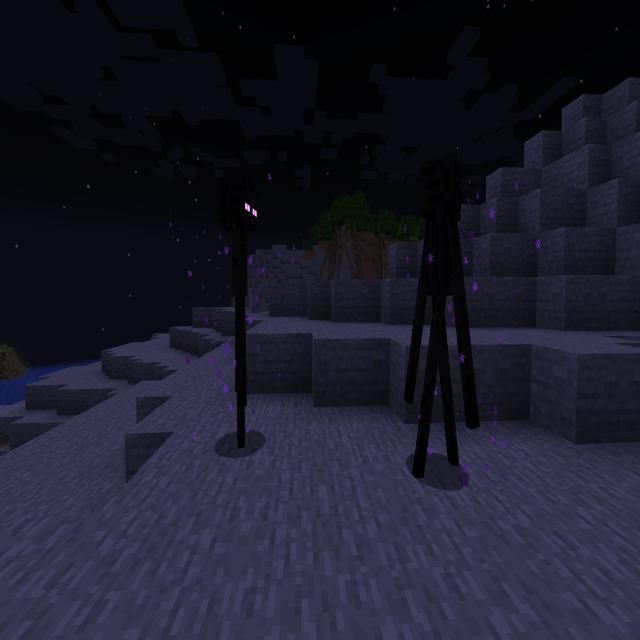Enderman: (402, 147, 483, 492), (219, 170, 261, 454)
